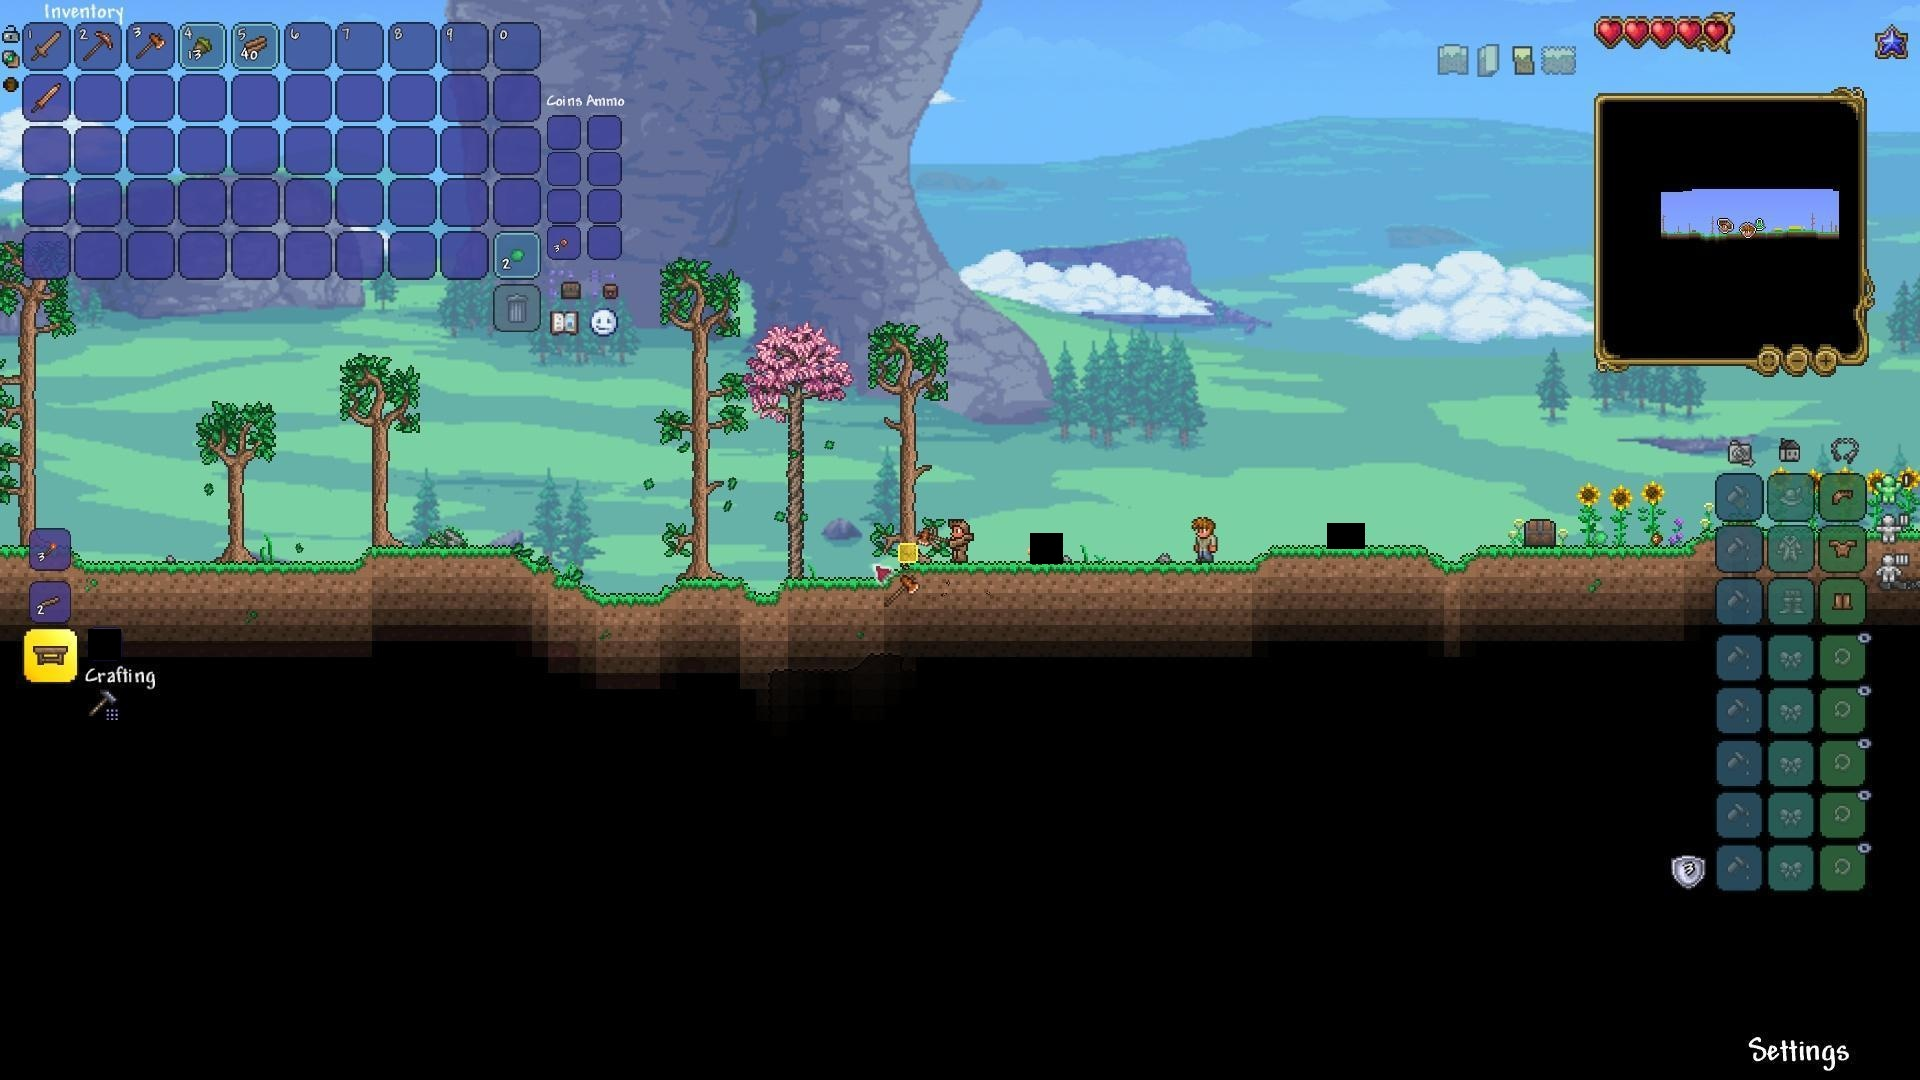breastplate: (1830, 538, 1859, 560)
helmet: (1829, 483, 1859, 509)
legs: (1832, 588, 1855, 616)
wood: (239, 29, 270, 59)
workbench: (34, 641, 66, 666)
